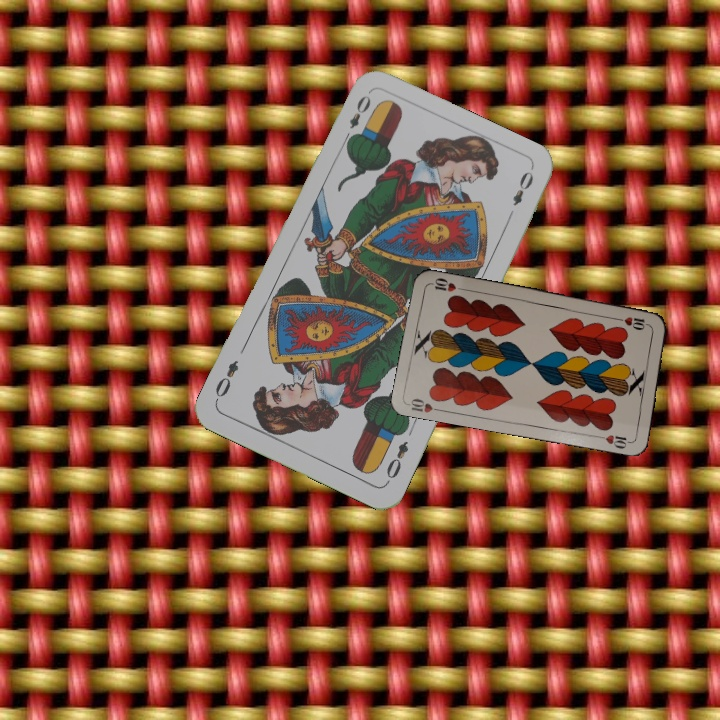EO: (339, 91, 374, 146), (382, 437, 411, 486)
H10: (405, 394, 445, 415), (612, 312, 652, 331)
